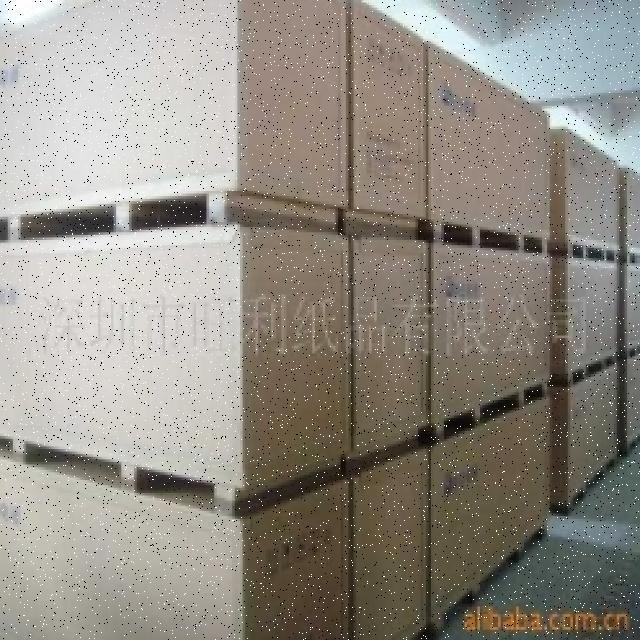box: (0, 232, 346, 485), (0, 0, 341, 230), (0, 438, 343, 640), (420, 402, 566, 636), (420, 226, 580, 411), (422, 22, 550, 236), (344, 228, 430, 456), (348, 0, 428, 225), (343, 451, 423, 640), (558, 115, 626, 254), (554, 242, 626, 366), (554, 372, 620, 496), (619, 253, 640, 351), (624, 162, 640, 255), (627, 343, 640, 454)
